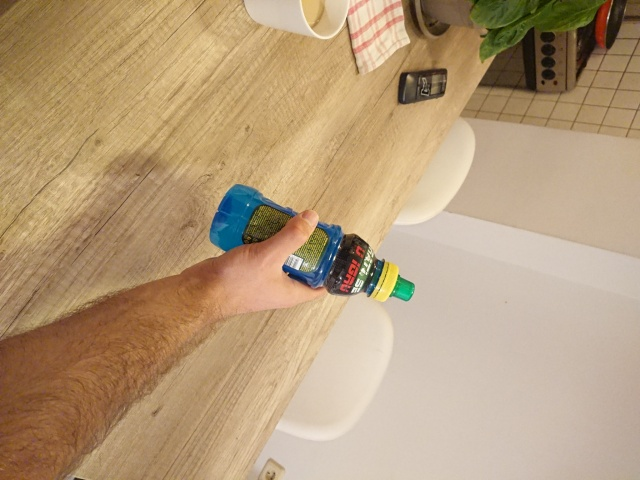Vindi Iso Sport Forest Strawberries 500mL: (208, 182, 416, 304)
